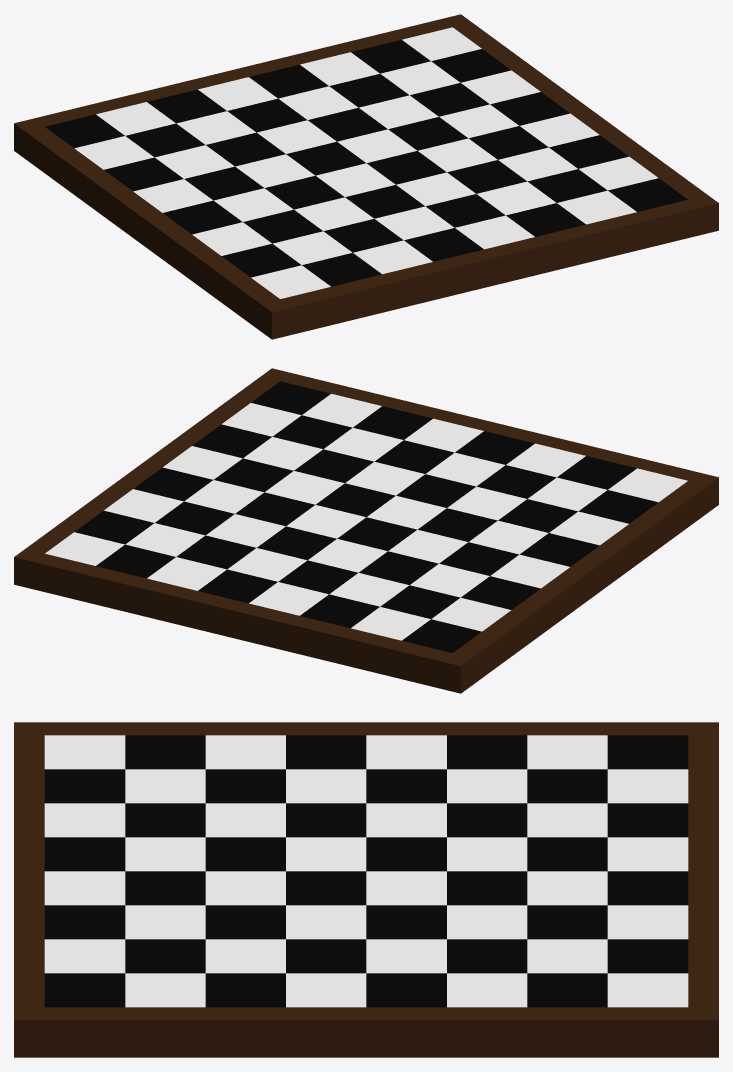
File: Chessboard.fbx
The picture shows the model from 3 angles, top to bottom: view 1: azimuth 30°, elevation 25°; view 2: azimuth 150°, elevation 25°; view 3: azimuth 270°, elevation 25°; orthographic projection. The views are drawn at different scales.
Parts seen in each view (by area): view 1: Cube, Cube.053, Cube.004, Cube.013, Cube.029, Cube.034, Cube.048, Cube.009, Cube.039, Cube.046, Cube.057, Cube.058 (+53 smaller); view 2: Cube, Cube.013, Cube.024, Cube.026, Cube.037, Cube.053, Cube.060, Cube.004, Cube.017, Cube.031, Cube.065, Cube.066 (+53 smaller); view 3: Cube, Cube.003, Cube.004, Cube.005, Cube.006, Cube.007, Cube.008, Cube.009, Cube.058, Cube.059, Cube.060, Cube.061 (+53 smaller).
Boxes of the visible parts, x1,y1,x2,y2 form: Cube: [14, 14, 718, 339]; Cube.053: [374, 206, 454, 240]; Cube.004: [147, 89, 226, 123]; Cube.013: [227, 98, 307, 132]; Cube.029: [286, 141, 365, 175]; Cube.034: [163, 200, 242, 234]; Cube.048: [498, 147, 577, 181]; Cube.009: [402, 27, 481, 61]; Cube.039: [418, 138, 497, 172]; Cube.046: [396, 172, 475, 206]; Cube.057: [579, 156, 658, 190]; Cube.058: [251, 265, 330, 298]; Cube: [14, 368, 718, 693]; Cube.013: [278, 560, 358, 594]; Cube.024: [155, 501, 234, 535]; Cube.026: [490, 554, 569, 588]; Cube.037: [367, 495, 446, 529]; Cube.053: [425, 452, 505, 486]; Cube.060: [506, 443, 585, 477]; Cube.004: [300, 594, 379, 628]; Cube.017: [74, 510, 153, 544]; Cube.031: [235, 492, 314, 526]; Cube.065: [251, 381, 330, 415]; Cube.066: [402, 619, 481, 652]; Cube: [14, 722, 718, 1057]; Cube.003: [607, 769, 688, 803]; Cube.004: [607, 803, 688, 837]; Cube.005: [607, 837, 688, 871]; Cube.006: [607, 871, 688, 905]; Cube.007: [607, 905, 688, 939]; Cube.008: [607, 939, 688, 973]; Cube.009: [607, 973, 688, 1007]; Cube.058: [44, 735, 125, 769]; Cube.059: [44, 769, 125, 803]; Cube.060: [44, 803, 125, 837]; Cube.061: [44, 837, 125, 871].
Bounding box in the file's own units: 0.17 × 0.01 × 0.17.
